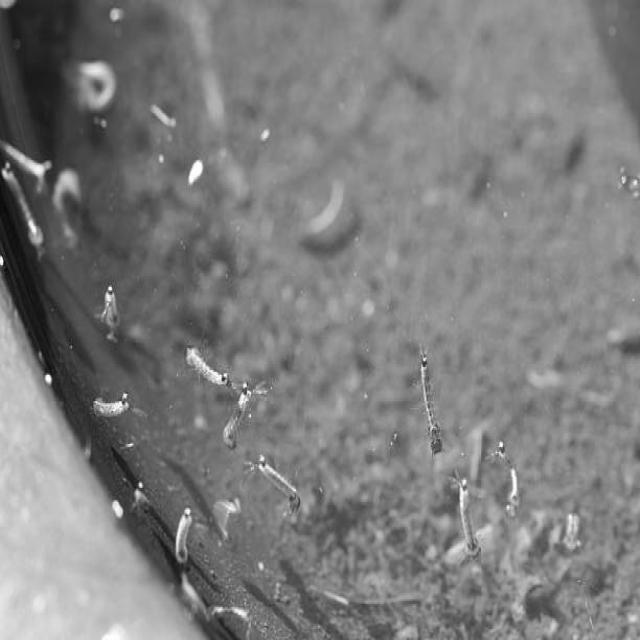larvas: (0, 156, 46, 259), (413, 345, 443, 452), (54, 164, 85, 258), (220, 384, 264, 446), (0, 137, 49, 185), (183, 345, 234, 389), (260, 459, 300, 511), (496, 445, 522, 520), (98, 280, 128, 340), (78, 60, 116, 104), (457, 476, 477, 559), (175, 506, 195, 560), (92, 392, 129, 419), (562, 510, 580, 554)
